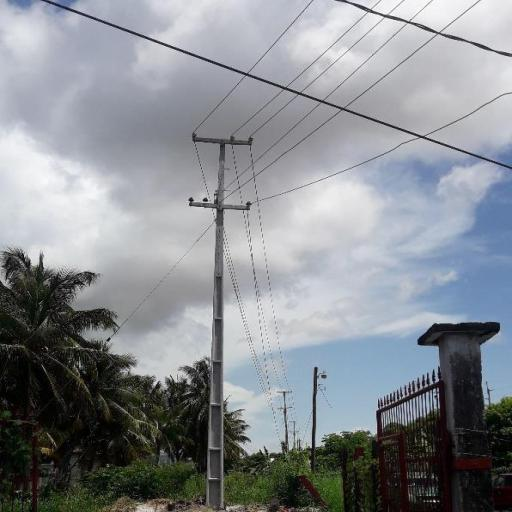mono_8: (186, 132, 252, 510), (277, 388, 293, 451)
